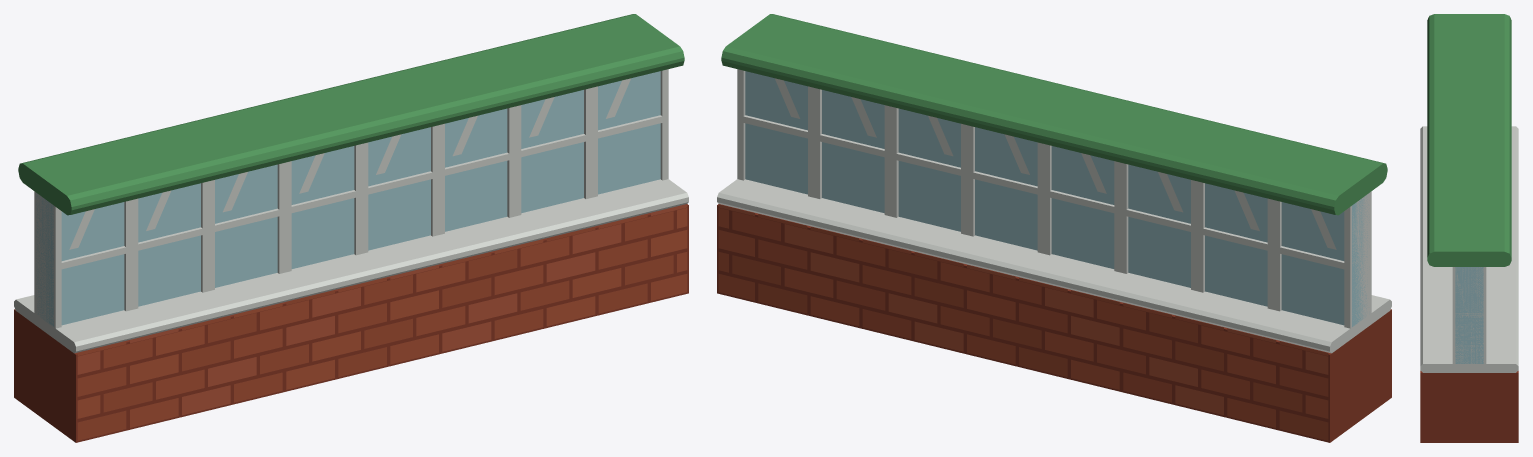
File: greenhouse-border.glb
The picture shows the model from 3 angles, left to right: view 1: azimuth 30°, elevation 25°; view 2: azimuth 150°, elevation 25°; view 3: azimuth 270°, elevation 25°; orthographic projection. The views are drawn at different scales.
Parts seen in each view (by area): view 1: greenhouse-border; view 2: greenhouse-border; view 3: greenhouse-border.
Boxes of the visible parts, x1,y1,x2,y2 form: greenhouse-border: (14,14,688,442); greenhouse-border: (717,14,1391,442); greenhouse-border: (1420,14,1518,442).
Bounding box in the file's own units: 4 × 1.5 × 0.7024.
